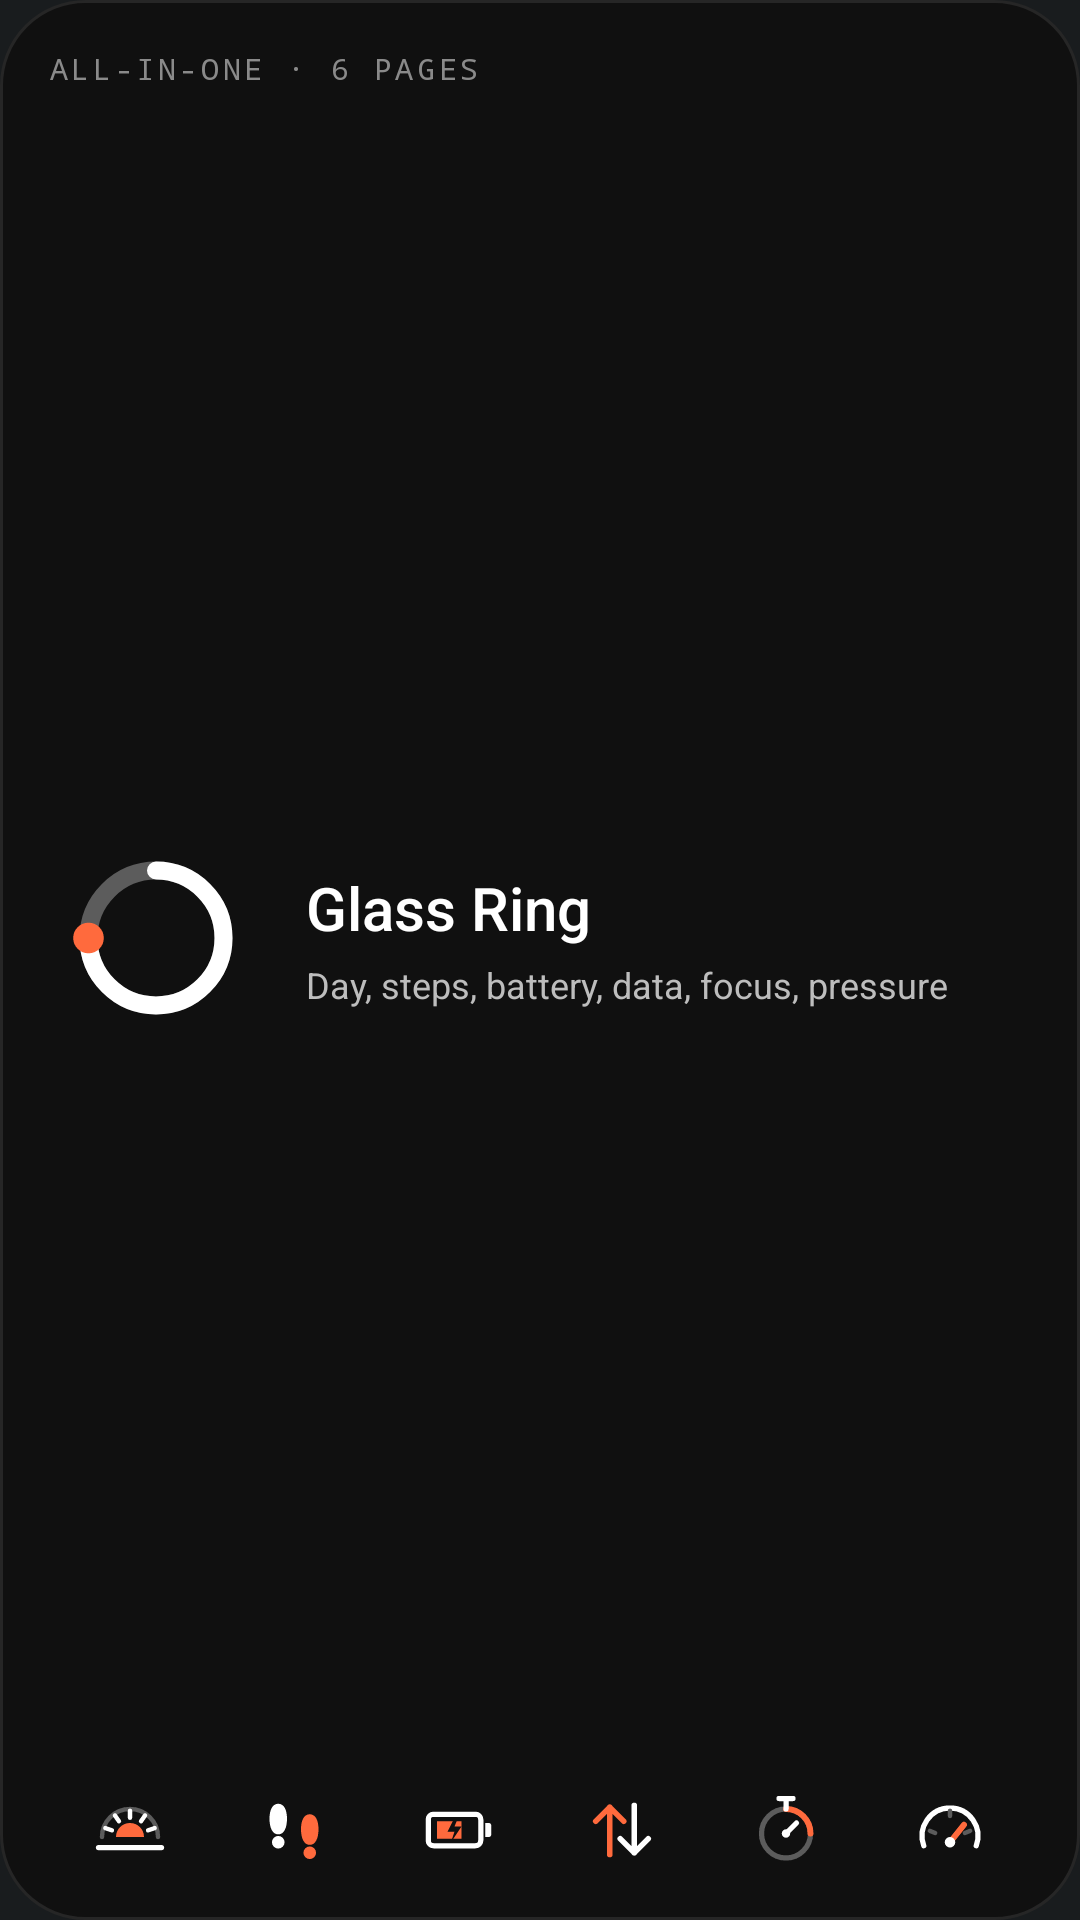

Icons on this 1080 x 1920 Android screen, each with the point to tap as point (x, y):
battery: point (458, 1830)
data: point (622, 1830)
focus: point (786, 1828)
pressure: point (950, 1827)
steps: point (294, 1831)
today: point (130, 1829)
